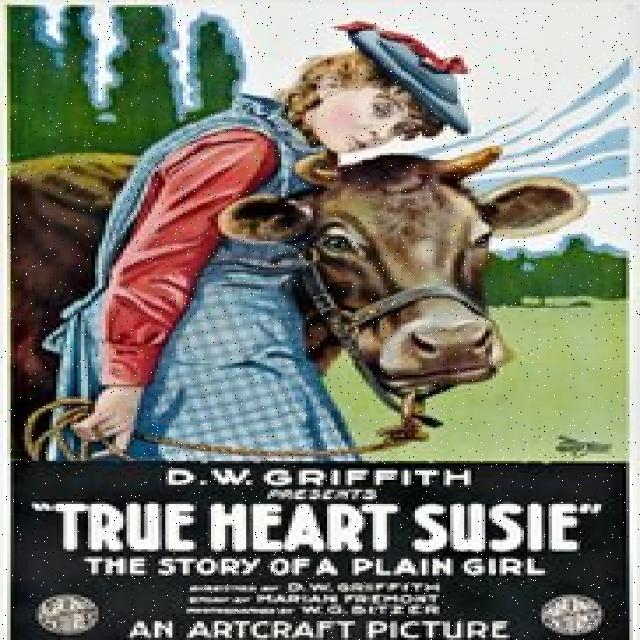movie-judul: (39, 493, 638, 578)
picture: (28, 34, 576, 462)
